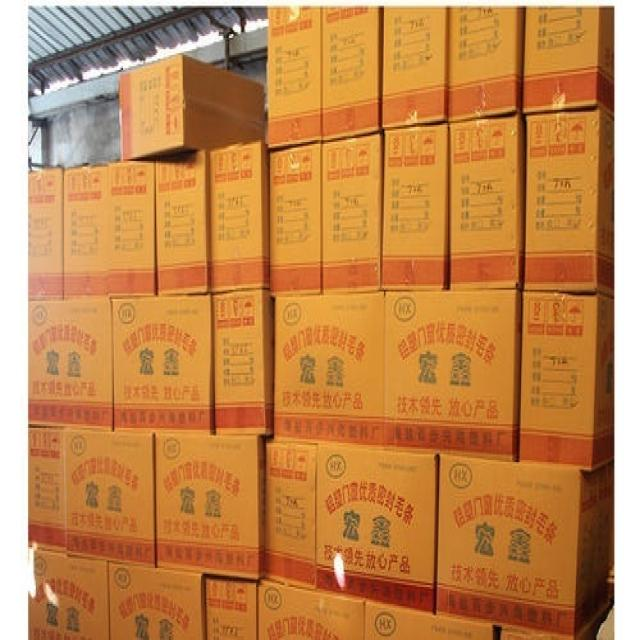box: (434, 455, 615, 637), (383, 289, 521, 460), (317, 444, 438, 614), (273, 289, 385, 448), (517, 291, 614, 471), (522, 109, 614, 297), (155, 434, 264, 581), (118, 55, 264, 160), (111, 295, 211, 434), (64, 428, 157, 571), (448, 115, 523, 289), (64, 160, 155, 297), (380, 125, 448, 289), (27, 298, 112, 428), (321, 131, 385, 292), (521, 9, 615, 115), (211, 288, 274, 438), (206, 142, 269, 291), (446, 9, 525, 120), (320, 9, 382, 142), (262, 440, 316, 589), (270, 141, 322, 295), (381, 10, 446, 132), (155, 151, 210, 294), (107, 561, 208, 638), (268, 8, 321, 146), (29, 549, 111, 638), (258, 578, 366, 638), (27, 427, 65, 551), (365, 602, 493, 638), (30, 166, 64, 298), (204, 575, 257, 638)
